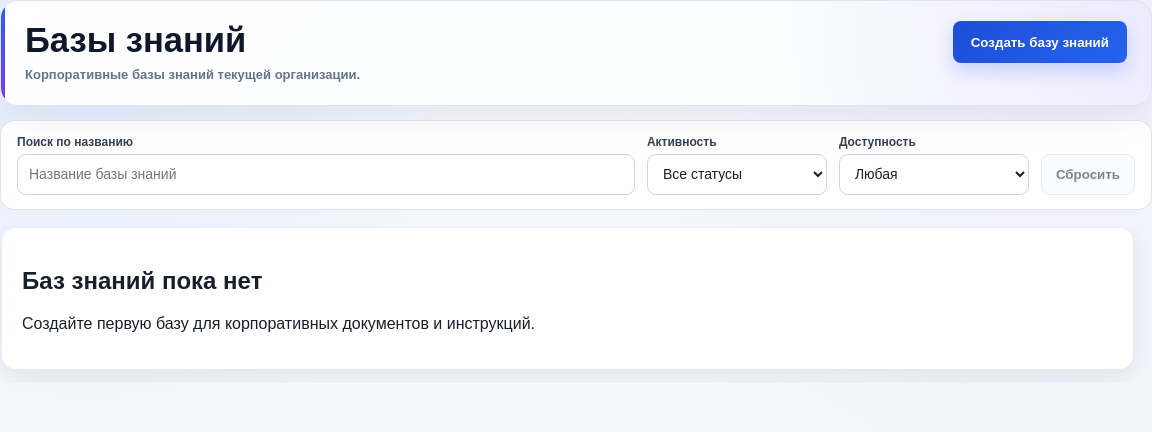
Test: KnowledgePage › filters all server pages, not just the visible 12 cards
Expected: the heading "Баз знаний пока нет" is shown, left=22, top=267, right=262, bottom=294
In the search field labelled "Поиск по названию": [326, 174] box left=17, top=154, right=635, bottom=194, type "Тестовая"
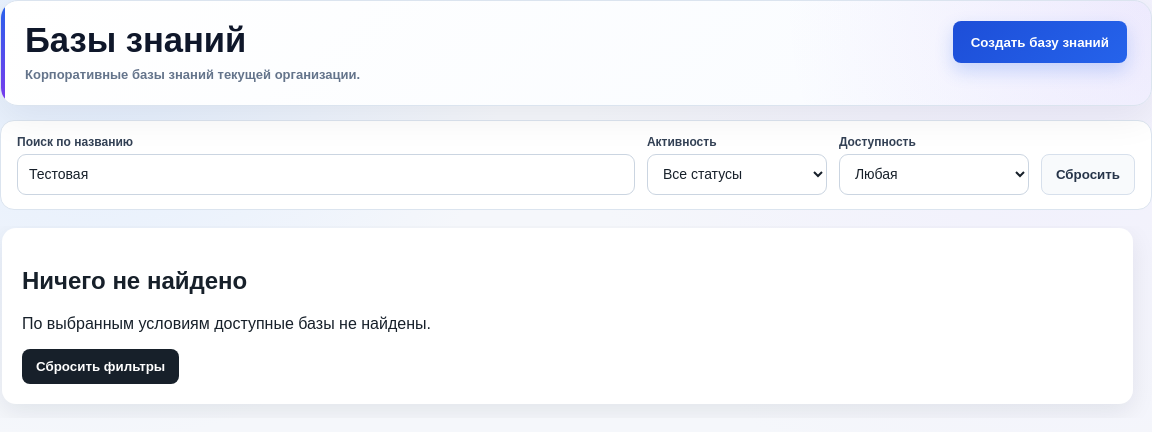
Expected: the heading "Ничего не найдено" is shown, left=22, top=267, right=247, bottom=294
